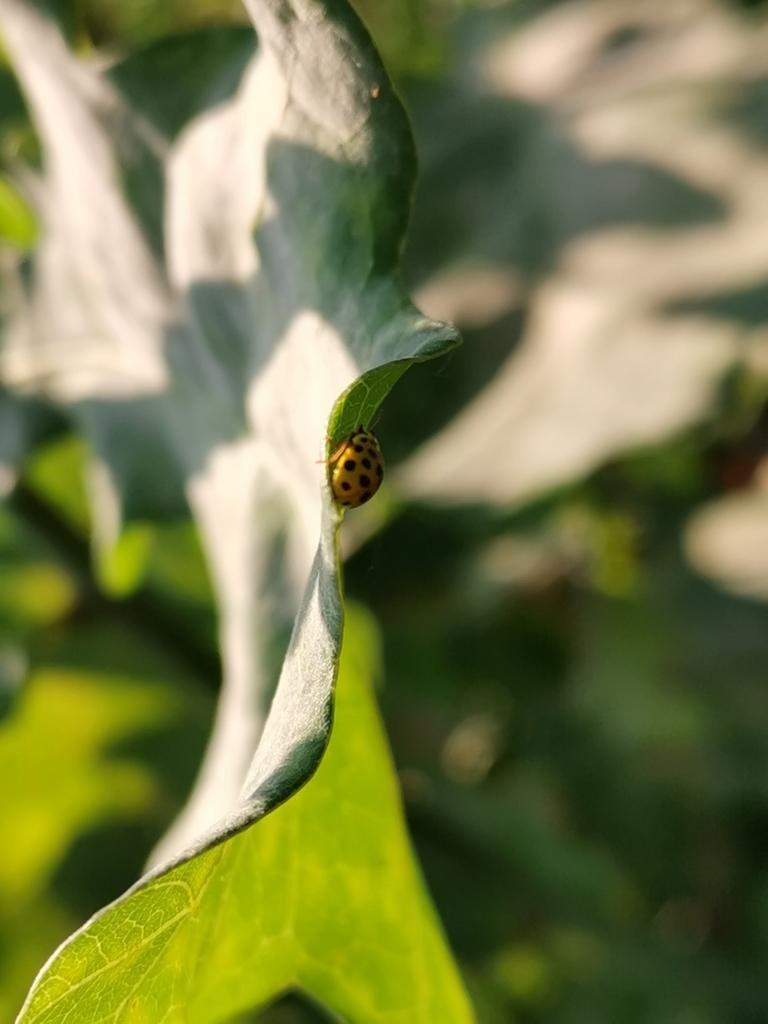ladybug: (315, 422, 387, 512)
